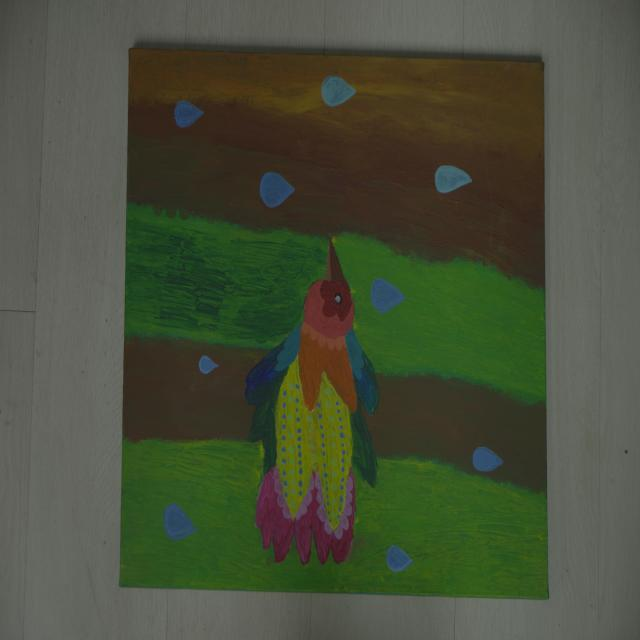painting: (120, 49, 548, 598)
